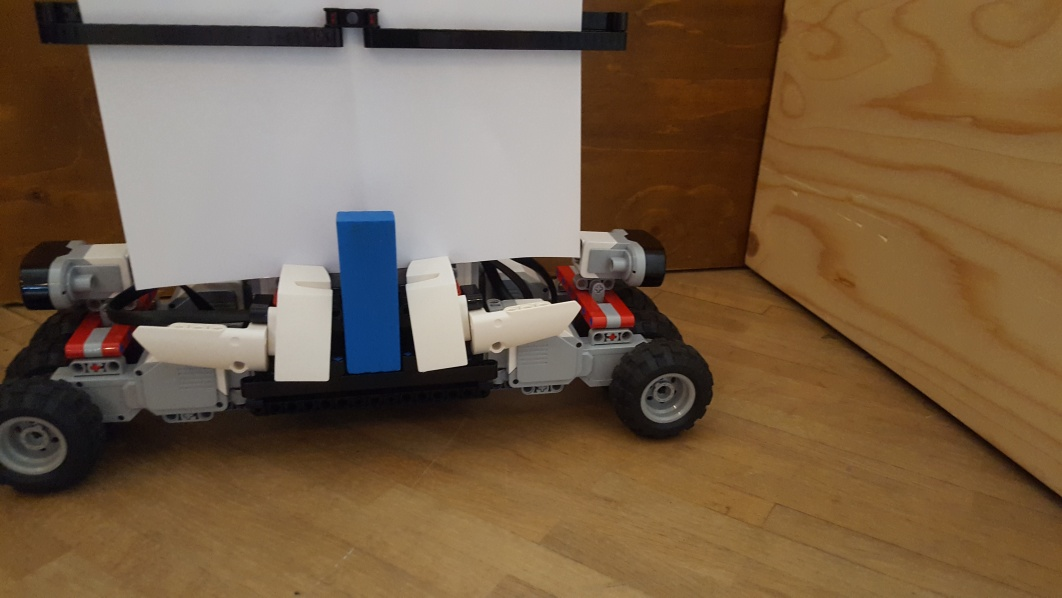beam: (334, 206, 407, 376)
